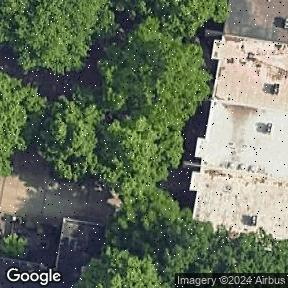vegetation: (0, 0, 288, 288), (0, 235, 26, 258)
